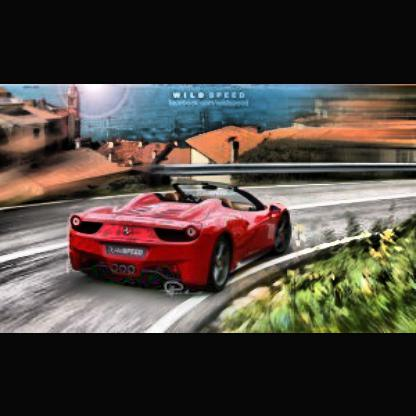Ferrari 458 Italia Convertible 2012: (73, 173, 301, 292)
